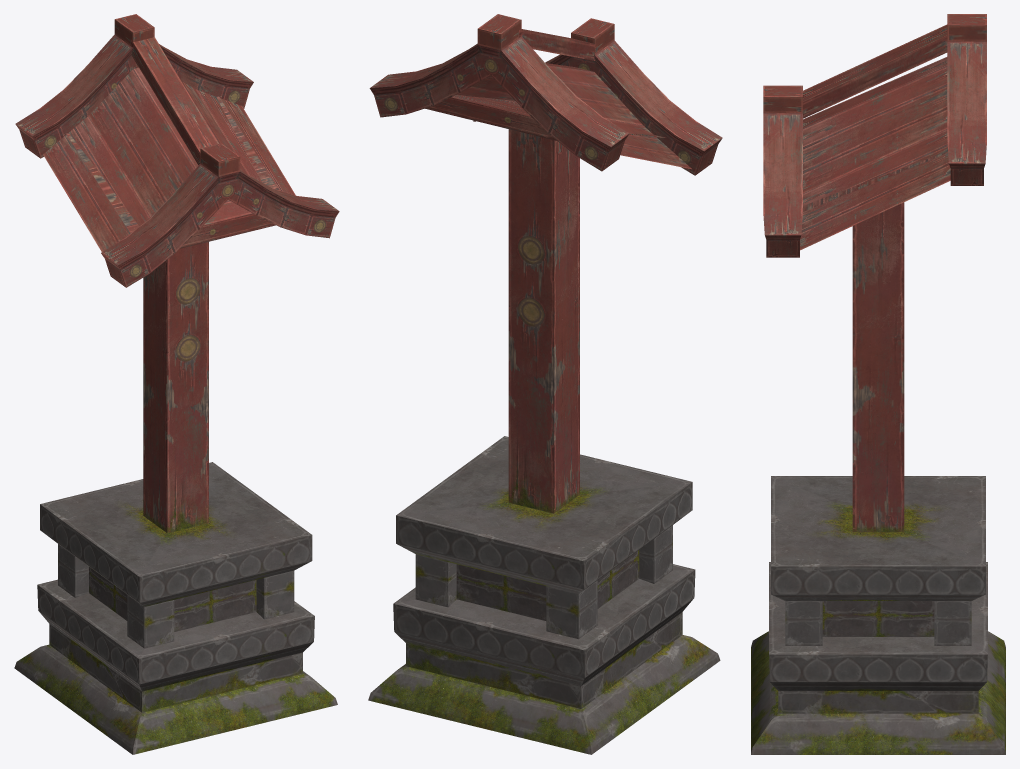
File: b_zx_yuanmen02_01.FBX
The picture shows the model from 3 angles, left to right: view 1: azimuth 30°, elevation 25°; view 2: azimuth 150°, elevation 25°; view 3: azimuth 270°, elevation 25°; orthographic projection. The views are drawn at different scales.
Visible parts, largest first — view 1: b_zx_yuanmen02_01; view 2: b_zx_yuanmen02_01; view 3: b_zx_yuanmen02_01.
Boxes of the visible parts, x1=… form: b_zx_yuanmen02_01: x1=14, y1=14, x2=339, y2=754; b_zx_yuanmen02_01: x1=368, y1=14, x2=722, y2=754; b_zx_yuanmen02_01: x1=751, y1=14, x2=1005, y2=754.
Size of the model in its own units: 1.92 by 5.23 by 1.77.
